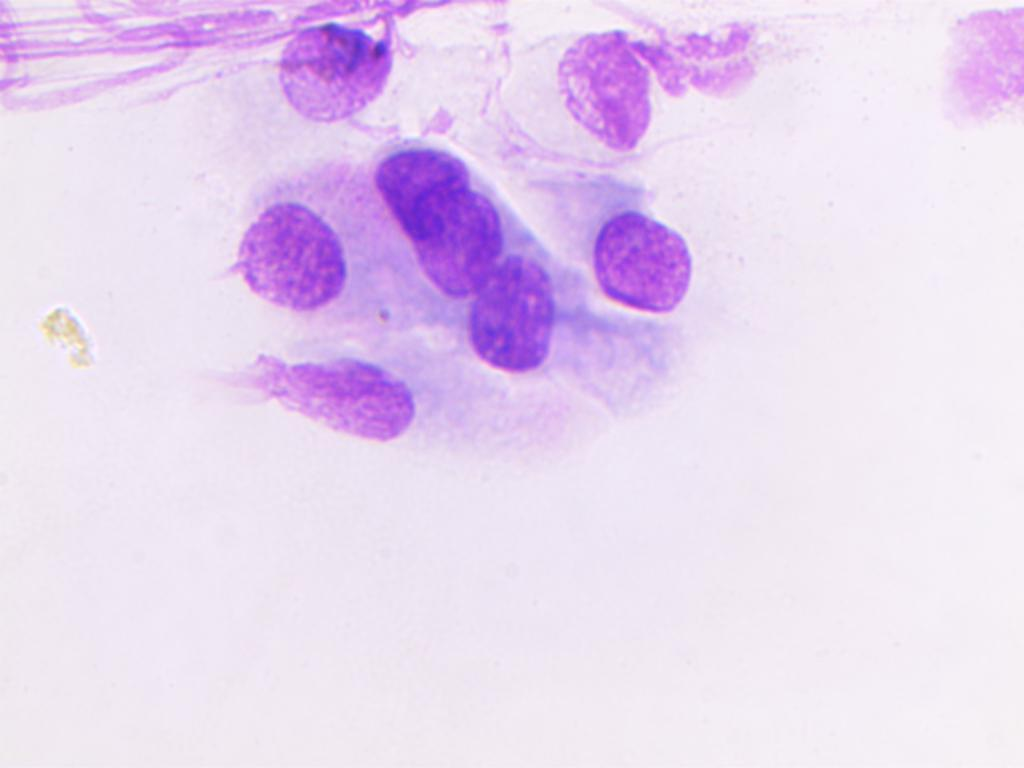artifact: (643, 6, 776, 107), (36, 308, 102, 372)
epithelial: (205, 341, 429, 461), (564, 165, 712, 324), (353, 151, 502, 307), (224, 181, 362, 327), (267, 13, 394, 137), (535, 22, 656, 152), (463, 247, 563, 371)
